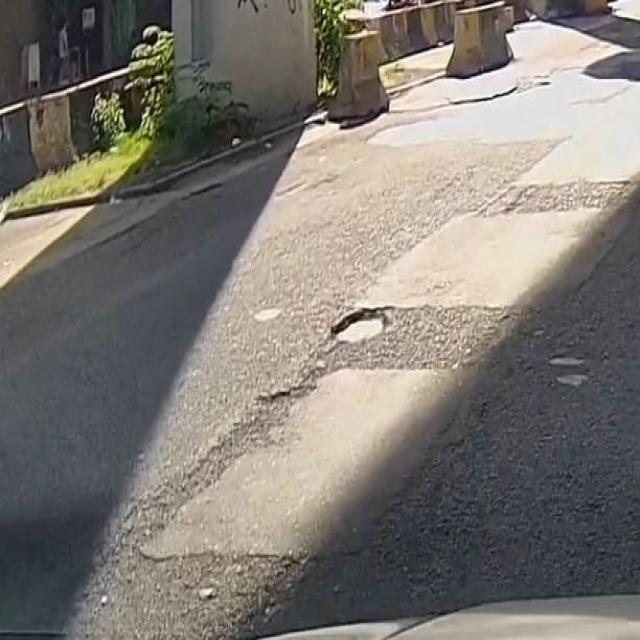Pothole: (324, 308, 391, 352)
